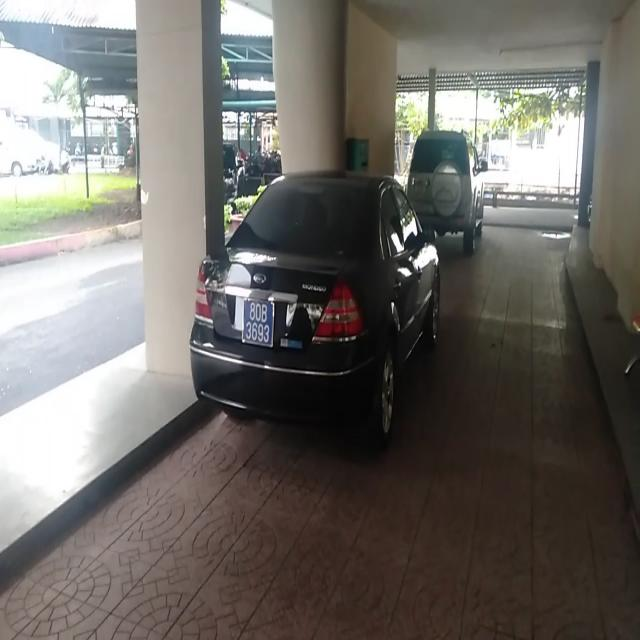bien_xanh: (241, 294, 274, 350)
